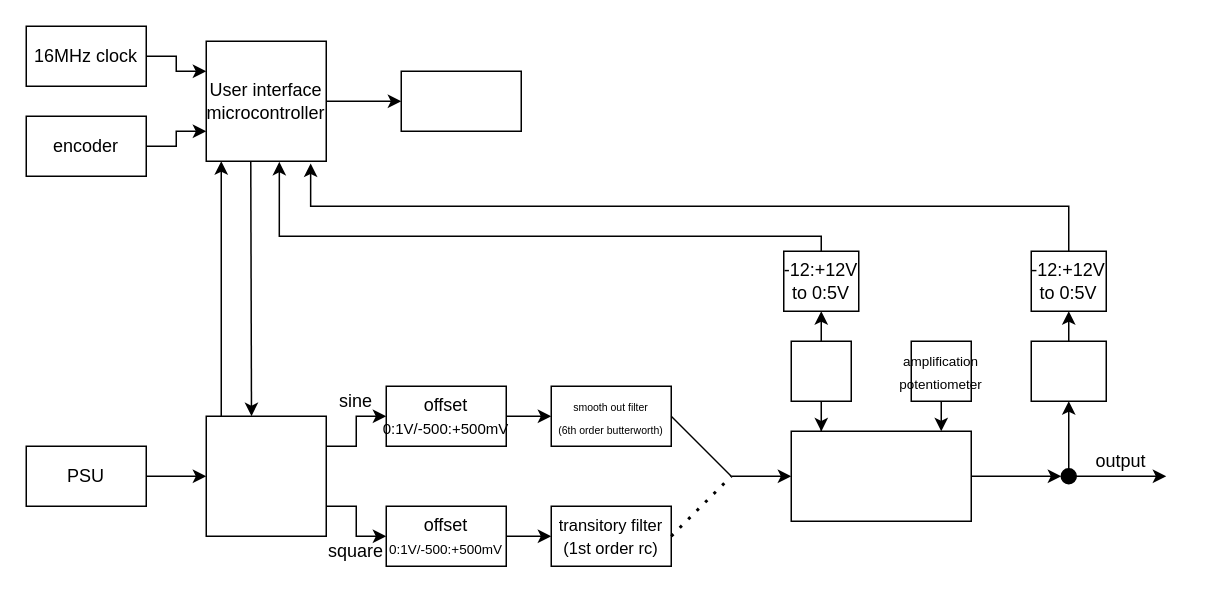
Some shapes in this 1205 by 593 pixel diagram are drawn without their labels. The shapes that lost their labels are listed below. From the top down, each one's box as (x1, y1, x2, y2) in pixels, then its label:
(400, 70, 521, 131): lcd display
(790, 340, 851, 401): offset potentiometer
(1030, 340, 1106, 401): true-rms-to-dc
(205, 415, 326, 536): wave generator microcontroller
(790, 430, 971, 521): amplification + offset
